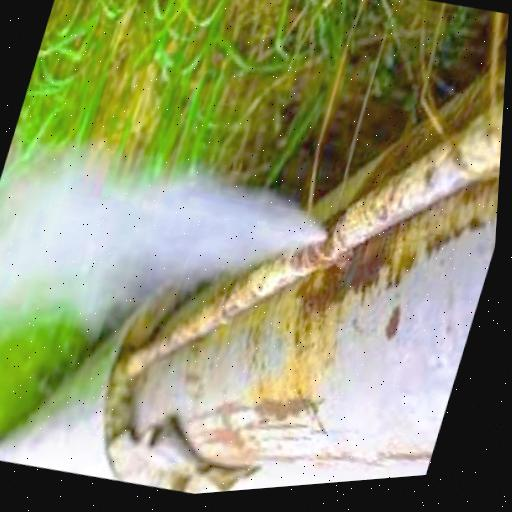corrosion: (279, 106, 503, 351), (240, 371, 330, 447)
